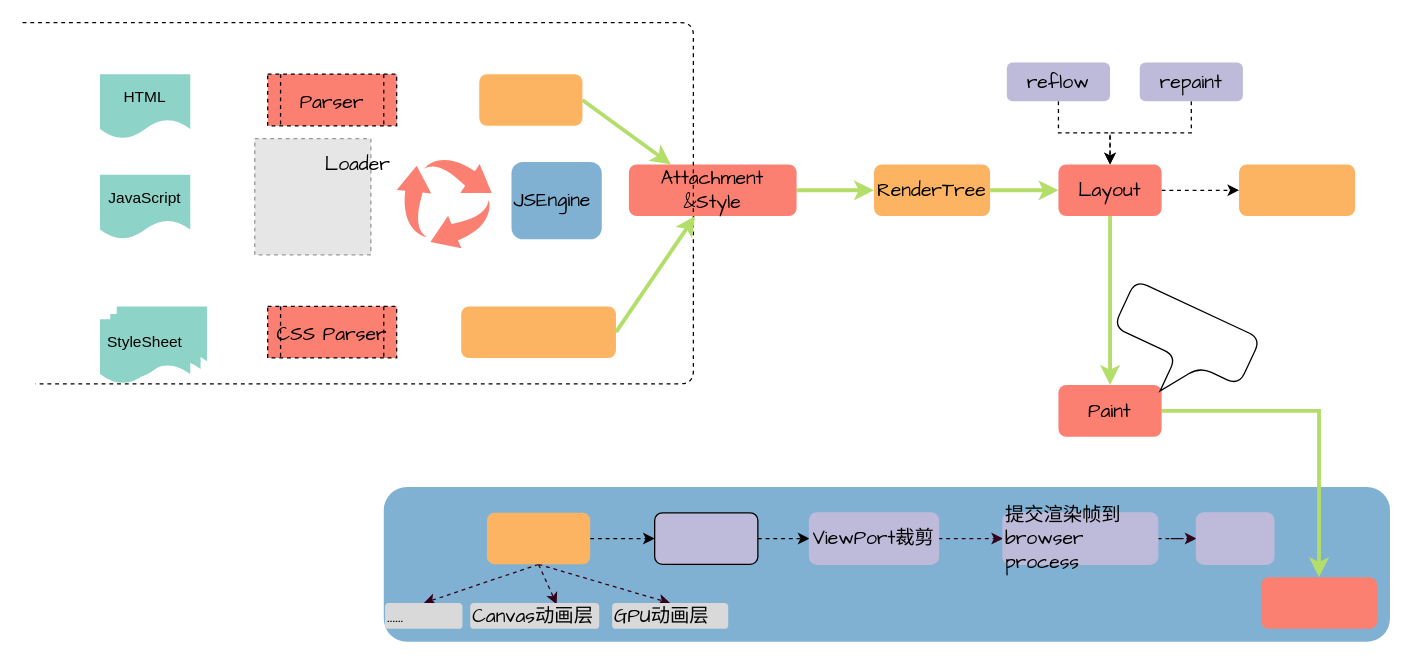
The diagram is 1413 pixels wide and 664 high, and some of its shapes have lost their labels. Grey dashed boxes stand in for pictures. The shapes that lost their labels are listed below. From the top down, each one's centre as x and y in pixels, then its label:
At point (530, 99): "DOMTree".
At point (443, 202): "渲染阻塞".
At point (1296, 189): "Layout Tree".
At point (538, 331): "CSSDOM Tree".
At point (1178, 350): "记录绘制顺序，即记录绘制事件".
At point (538, 538): "LayerTree".
At point (705, 537): "光栅化".
At point (1234, 537): "Display".
At point (1318, 602): "Compositing".
